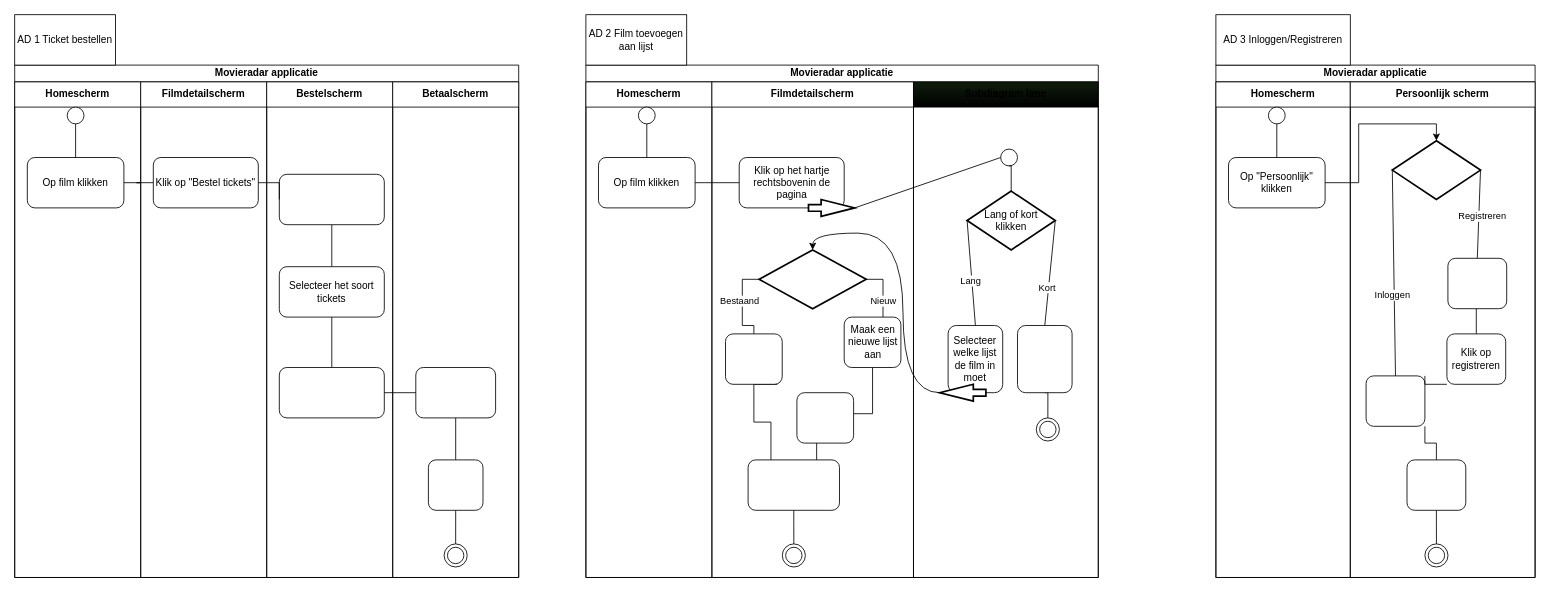
Image size: 1550x592. Some labels were removed from this diagram. Here are the shapes that lost their labels. From the top down, the centre of each, then its label:
point 1436,169: Inloggen of registreren
point 331,199: Selecteer datum, tijd locatie en de stoelen
point 812,279: Bestaande lijst of nieuwe
point 1477,283: Vul de registreer-velden in
point 753,358: Selecteer de lijst
point 1044,359: Lijst wordt toegevoegd aan favorieten
point 331,392: Klik op "Naar betalen"
point 455,392: Selecteer betaalmethode
point 1395,400: Vul de inlogvelden in
point 825,417: Selecteer de nieuwe lijst
point 455,484: Klik op "Betalen"
point 793,484: Film wordt toegevoegd aan geslecteerde lijst
point 1436,484: Klik op inooggen
